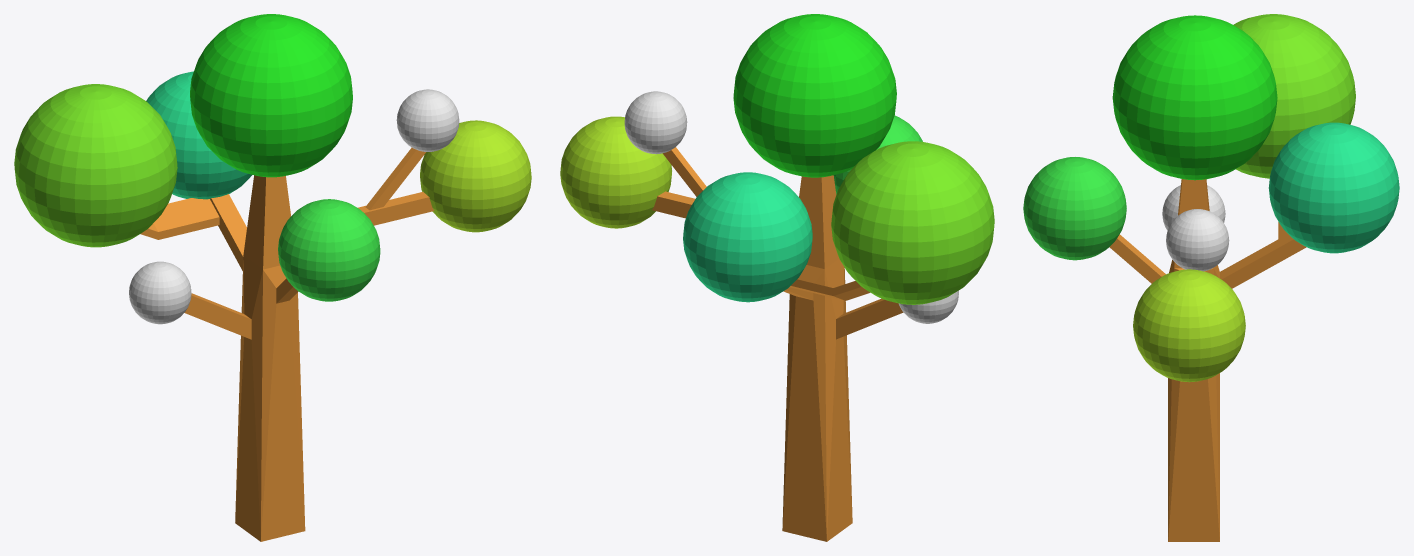
The model's file is tree.fbx.
3 renders of one model, left to right at view 1: azimuth 30°, elevation 25°; view 2: azimuth 150°, elevation 25°; view 3: azimuth 270°, elevation 25°, orthographic.
Visible parts, largest first — view 1: Cube, Sphere.004, Sphere.006, Sphere.002, Sphere, Sphere.003, Sphere.005, Sphere.001; view 2: Cube, Sphere.004, Sphere.006, Sphere.003, Sphere.002, Sphere.001, Sphere.005, Sphere; view 3: Sphere.006, Sphere.003, Cube, Sphere.002, Sphere.004, Sphere, Sphere.001, Sphere.005.
Part boxes in pixels (x1,y1,x2,y2): Cube: (140, 147, 433, 541); Sphere.004: (14, 84, 177, 247); Sphere.006: (190, 14, 352, 177); Sphere.002: (420, 120, 531, 232); Sphere: (278, 199, 380, 301); Sphere.003: (146, 71, 252, 199); Sphere.005: (129, 261, 191, 324); Sphere.001: (396, 89, 459, 151); Cube: (652, 147, 903, 541); Sphere.004: (831, 141, 994, 304); Sphere.006: (733, 14, 896, 177); Sphere.003: (683, 172, 812, 302); Sphere.002: (560, 116, 671, 228); Sphere.001: (624, 91, 687, 154); Sphere.005: (898, 290, 958, 323); Sphere: (833, 115, 922, 194); Sphere.006: (1112, 15, 1277, 180); Sphere.003: (1268, 122, 1399, 253); Cube: (1109, 179, 1306, 541); Sphere.002: (1133, 269, 1245, 382); Sphere.004: (1233, 14, 1355, 178); Sphere: (1023, 157, 1126, 260); Sphere.001: (1166, 209, 1229, 271); Sphere.005: (1162, 185, 1225, 230).
Bounding box in the file's own units: 1029 × 1085 × 727.
